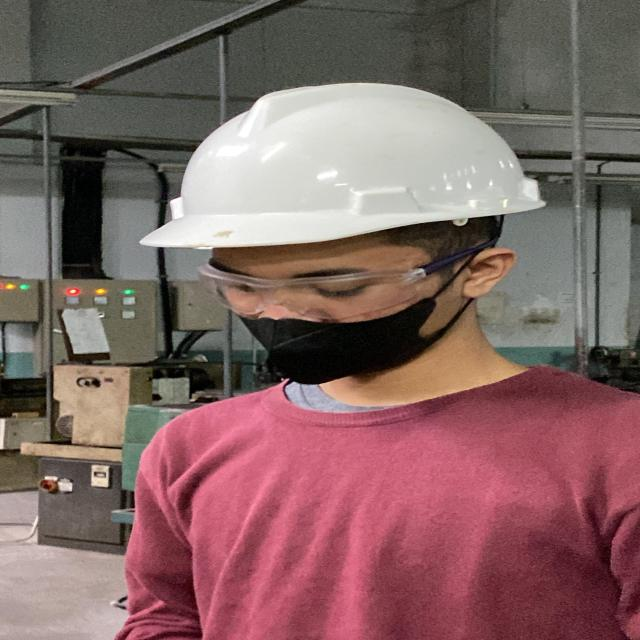face_mask: (195, 256, 464, 383)
glasses: (186, 259, 458, 322)
head_helmet: (129, 84, 566, 246)
